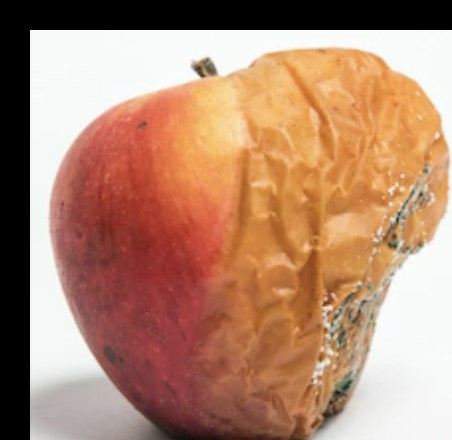rotten_apple: (49, 47, 449, 440)
